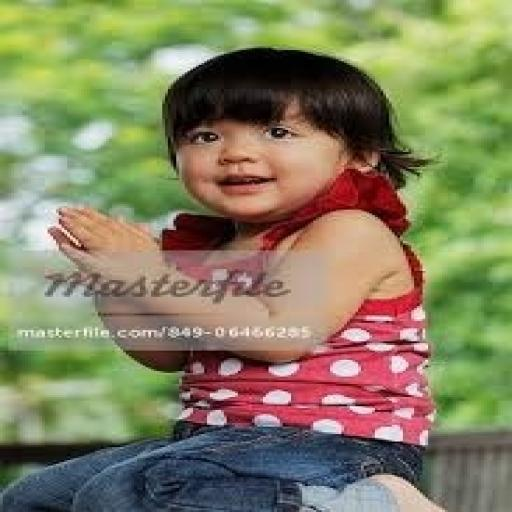clapping: (0, 45, 476, 510)
